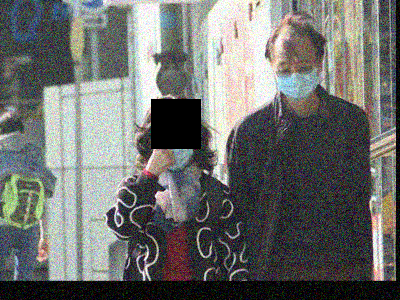with_mask: (149, 127, 194, 174), (271, 56, 319, 98)
